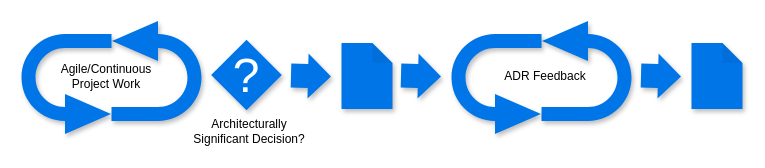
Image size: 765x168. Some labels were removed from this diagram. The shapes that lost their labels are listed below. From the top down, each one's centre as x and y in pixels, then its label:
(367,77): Proposed ADR
(717,77): Accepted ADR
